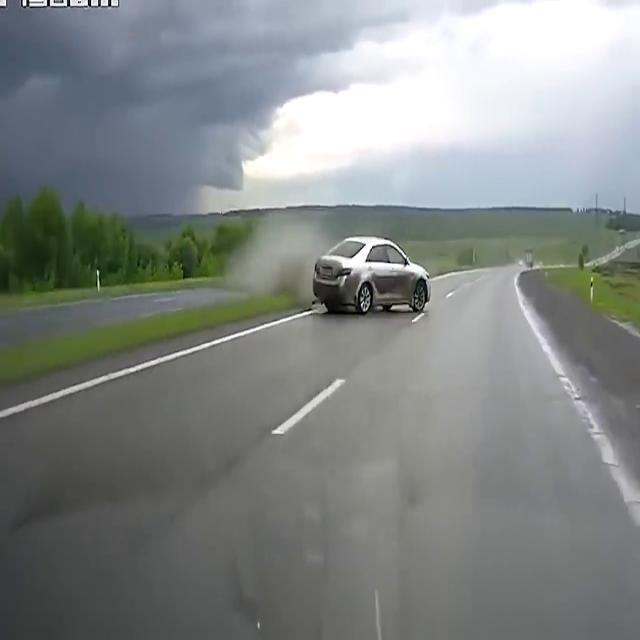single accident: (309, 202, 458, 327)
